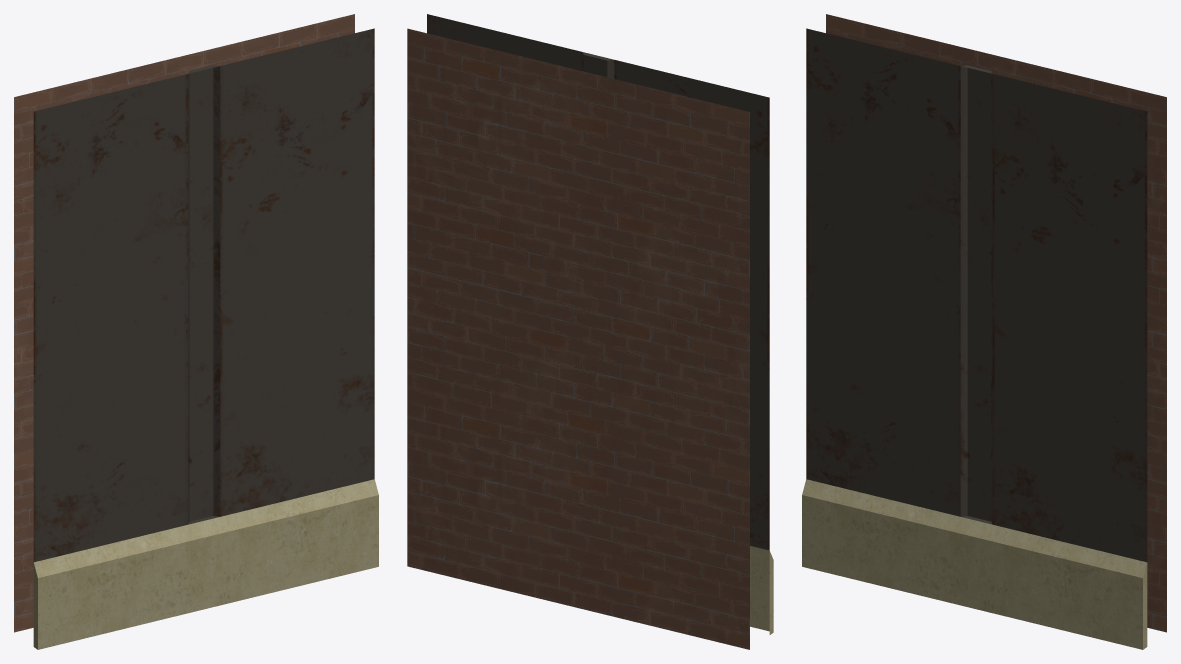
The model's file is Metal_FirstFloor_Wall.gltf.
3 renders of one model, left to right at view 1: azimuth 30°, elevation 25°; view 2: azimuth 150°, elevation 25°; view 3: azimuth 330°, elevation 25°, orthographic.
Parts seen in each view (by area): view 1: Metal_FirstFloor_Wall; view 2: Metal_FirstFloor_Wall; view 3: Metal_FirstFloor_Wall.
Part boxes in pixels (x1,y1,x2,y2): Metal_FirstFloor_Wall: [14, 14, 378, 649]; Metal_FirstFloor_Wall: [407, 14, 773, 649]; Metal_FirstFloor_Wall: [802, 14, 1166, 649].
Bounding box in the file's own units: 2 × 3 × 0.242.
3 materials, 3 textured.
